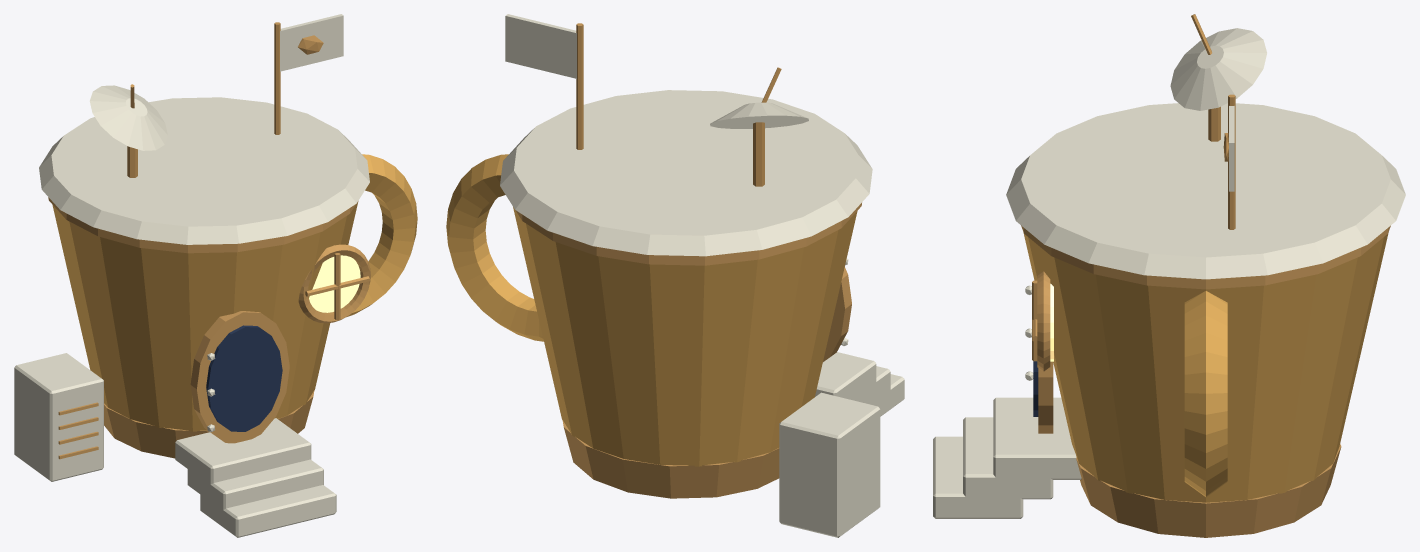
Rendered from coffee_cup_habitat_v2.glb.
The picture shows the model from 3 angles, left to right: view 1: azimuth 30°, elevation 25°; view 2: azimuth 150°, elevation 25°; view 3: azimuth 270°, elevation 25°; orthographic projection. The views are drawn at different scales.
Visible parts, largest first — view 1: coffee_cup_habitat_v2__orbit-ivory, coffee_cup_habitat_v2__orbit-habitat-ochre, coffee_cup_habitat_v2__orbit-copper, coffee_cup_habitat_v2__orbit-server-navy, coffee_cup_habitat_v2__orbit-window-emissive; view 2: coffee_cup_habitat_v2__orbit-ivory, coffee_cup_habitat_v2__orbit-habitat-ochre, coffee_cup_habitat_v2__orbit-copper; view 3: coffee_cup_habitat_v2__orbit-ivory, coffee_cup_habitat_v2__orbit-habitat-ochre, coffee_cup_habitat_v2__orbit-copper.
Boxes of the visible parts, <box> form: coffee_cup_habitat_v2__orbit-ivory: <box>14,14,369,537</box>; coffee_cup_habitat_v2__orbit-habitat-ochre: <box>52,154,417,431</box>; coffee_cup_habitat_v2__orbit-copper: <box>48,22,370,459</box>; coffee_cup_habitat_v2__orbit-server-navy: <box>206,325,282,431</box>; coffee_cup_habitat_v2__orbit-window-emissive: <box>309,255,360,312</box>; coffee_cup_habitat_v2__orbit-ivory: <box>500,14,904,537</box>; coffee_cup_habitat_v2__orbit-habitat-ochre: <box>446,154,857,466</box>; coffee_cup_habitat_v2__orbit-copper: <box>515,23,861,498</box>; coffee_cup_habitat_v2__orbit-ivory: <box>933,28,1405,518</box>; coffee_cup_habitat_v2__orbit-habitat-ochre: <box>1023,232,1388,502</box>; coffee_cup_habitat_v2__orbit-copper: <box>1021,14,1390,537</box>.
Bounding box in the file's own units: 46.47 × 45.32 × 42.07.
